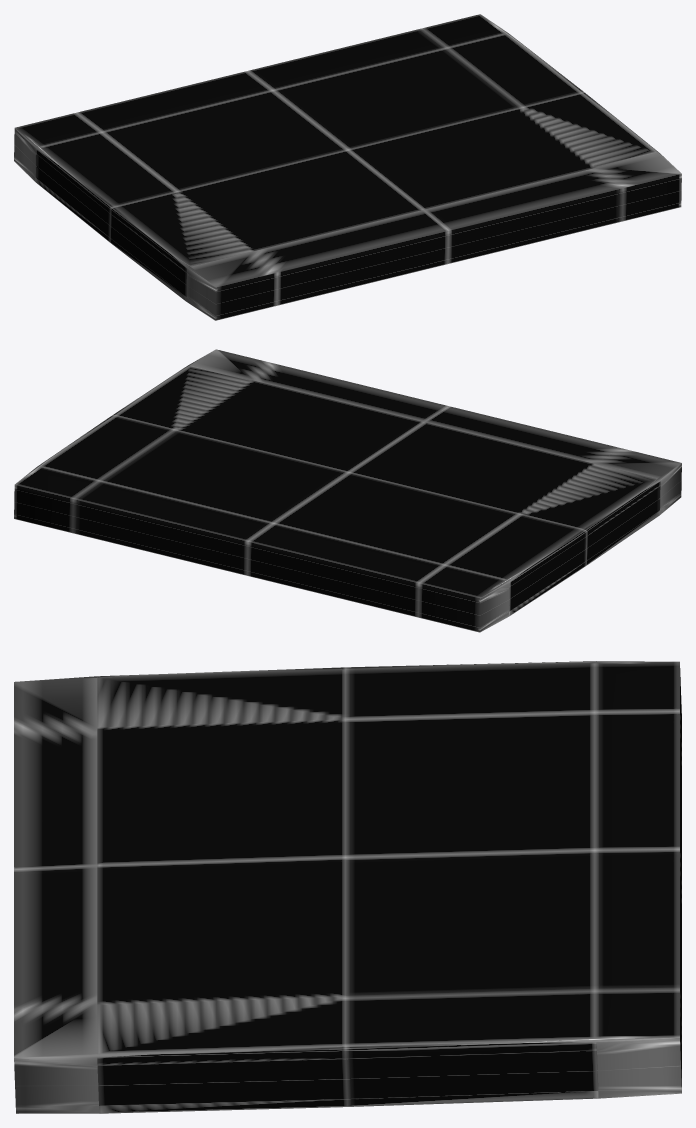
The model's file is Butter_Slice2.fbx.
3 views of the same model, one above another, from view 1: azimuth 30°, elevation 25°; view 2: azimuth 150°, elevation 25°; view 3: azimuth 270°, elevation 25° (orthographic). The views are drawn at different scales.
Parts seen in each view (by area): view 1: pCube8; view 2: pCube8; view 3: pCube8.
Part boxes in pixels (<box>): pCube8: <box>14,14,681,320</box>; pCube8: <box>14,349,681,632</box>; pCube8: <box>14,661,681,1113</box>.
Size of the model in its own units: 8.66 by 0.8031 by 6.38.
